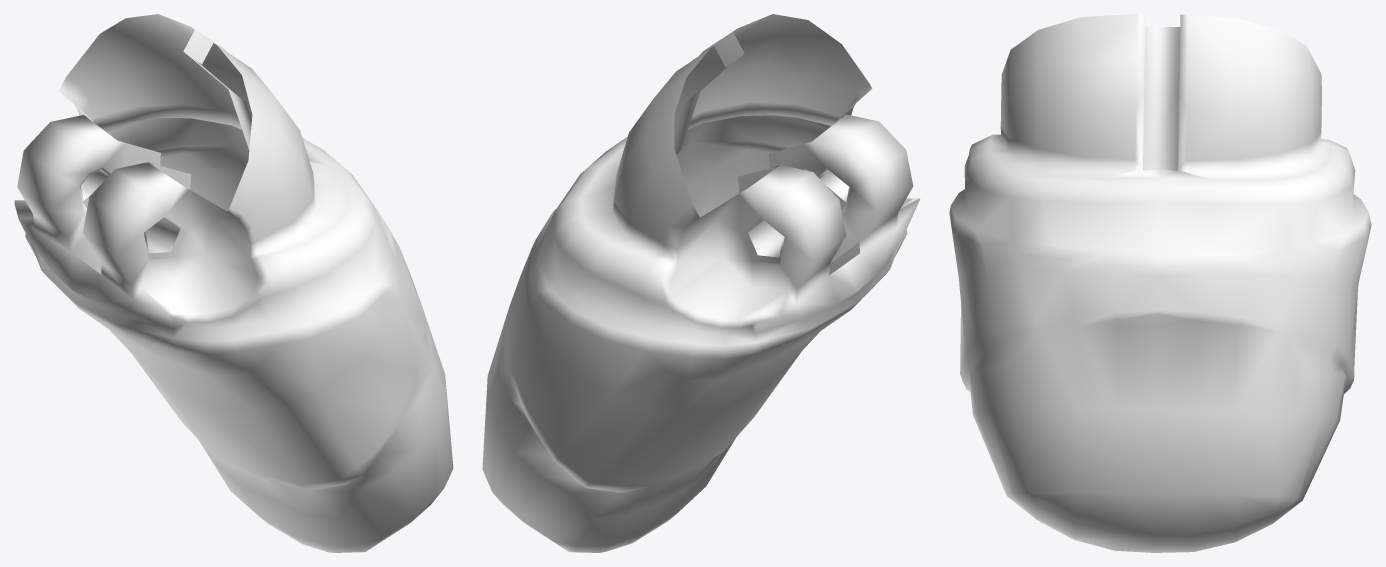
Rendered from RThumb2.1.dae.
The picture shows the model from 3 angles, left to right: view 1: azimuth 30°, elevation 25°; view 2: azimuth 150°, elevation 25°; view 3: azimuth 270°, elevation 25°; orthographic projection. The views are drawn at different scales.
Visible parts, largest first — view 1: RThumb2; view 2: RThumb2; view 3: RThumb2.
Boxes of the visible parts, x1=… form: RThumb2: x1=14, y1=14, x2=453, y2=552; RThumb2: x1=482, y1=14, x2=919, y2=552; RThumb2: x1=949, y1=14, x2=1371, y2=552.
Size of the model in its own units: 0.0144 by 0.0162 by 0.0205.
Materials: 1 (1 with a texture image).
